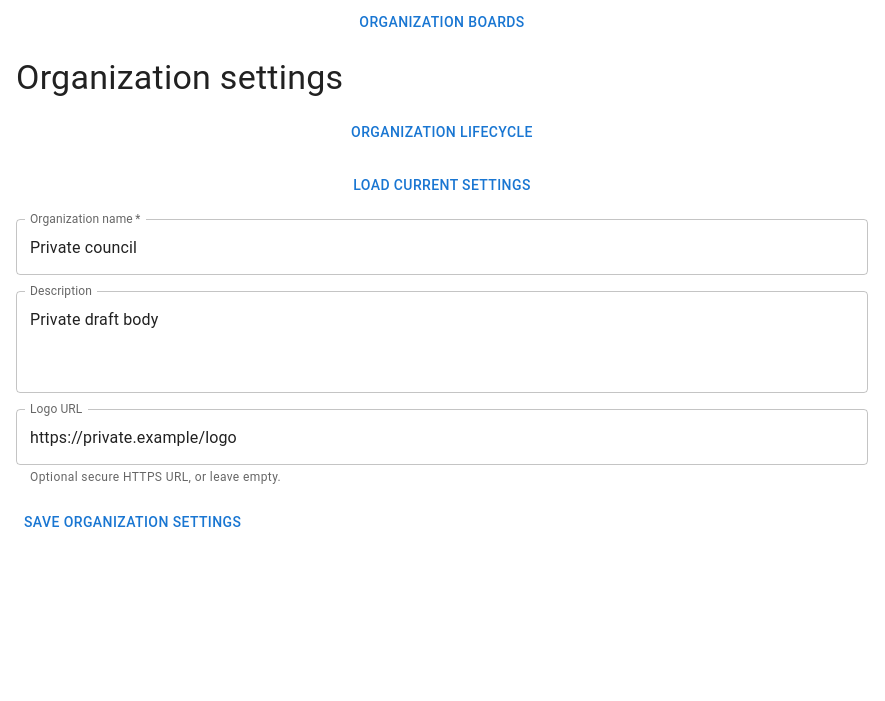
Test case: reports uncertainty and original save retry while preserving exact mutation identity
Expected: the field labelled "Organization name *" is shown, [16,220,868,276]
Click the button "Save Organization settings" at (133, 523), box [16,504,249,541]
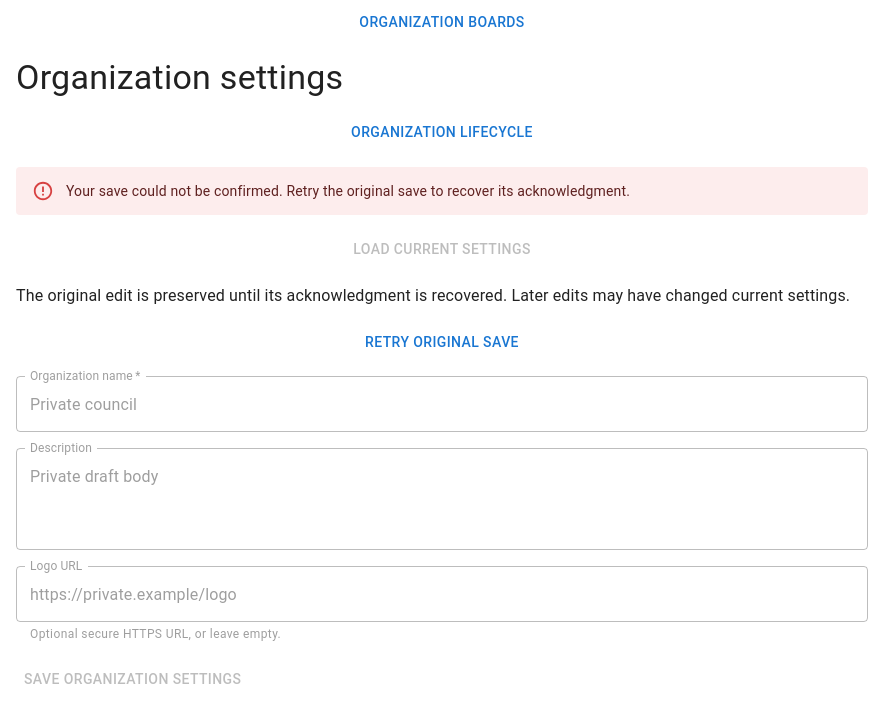
Expected: the text "Your save could not be confirmed" is shown, [66,183,630,199]
Click the button "Retry original save" at (442, 342), box [16,324,868,360]
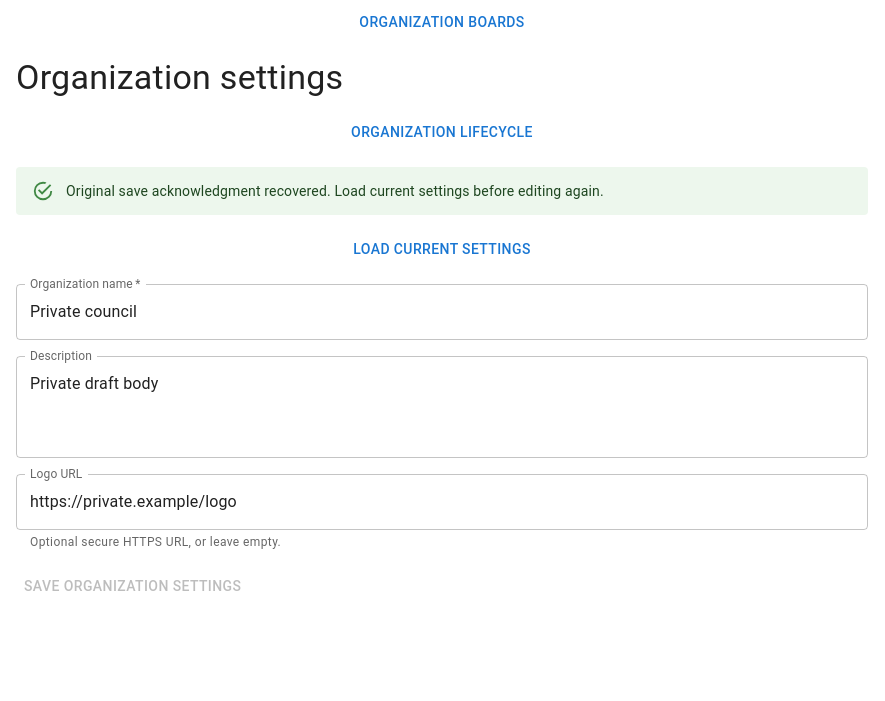
Expected: the text "Original save acknowledgment recovered" is shown, [66,183,604,199]
